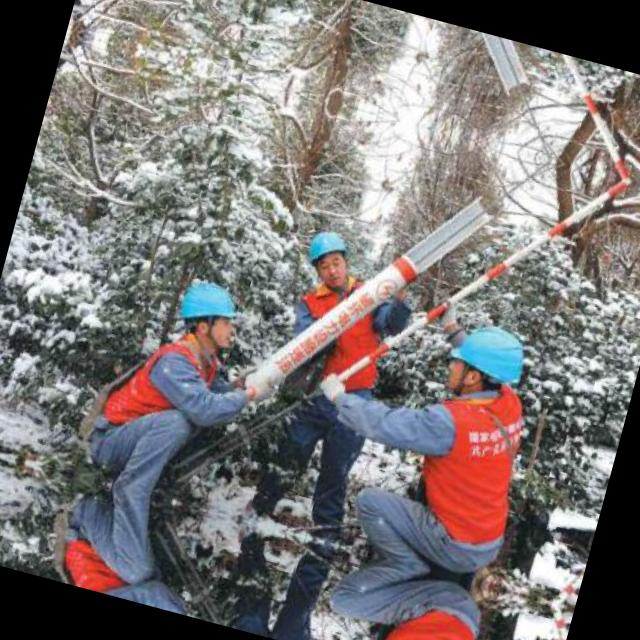helmet: (436, 310, 529, 410), (161, 268, 253, 360), (295, 220, 360, 294)
